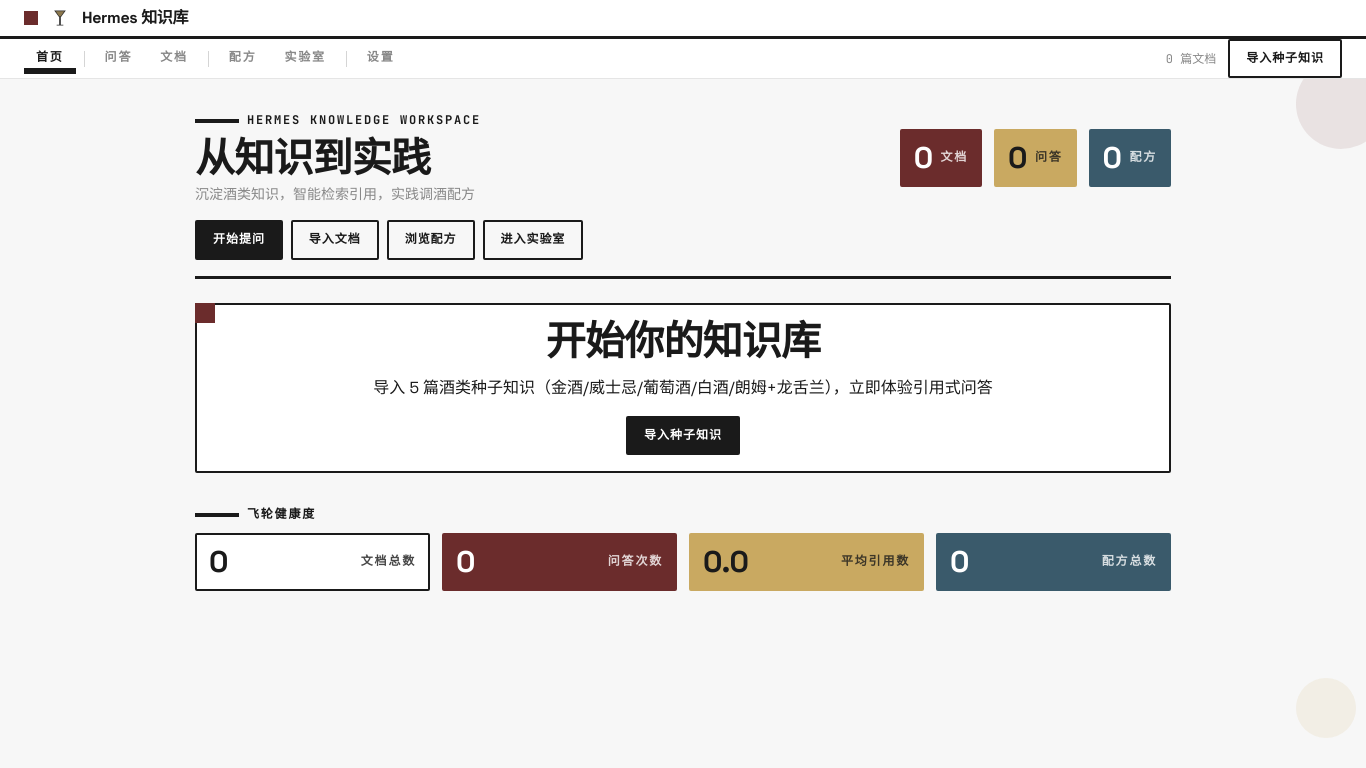
Scenario: App › 点击「实验室」切换到 LabPanel
Click the link "实验室".
click(305, 56)  # box [284,48,326,64]
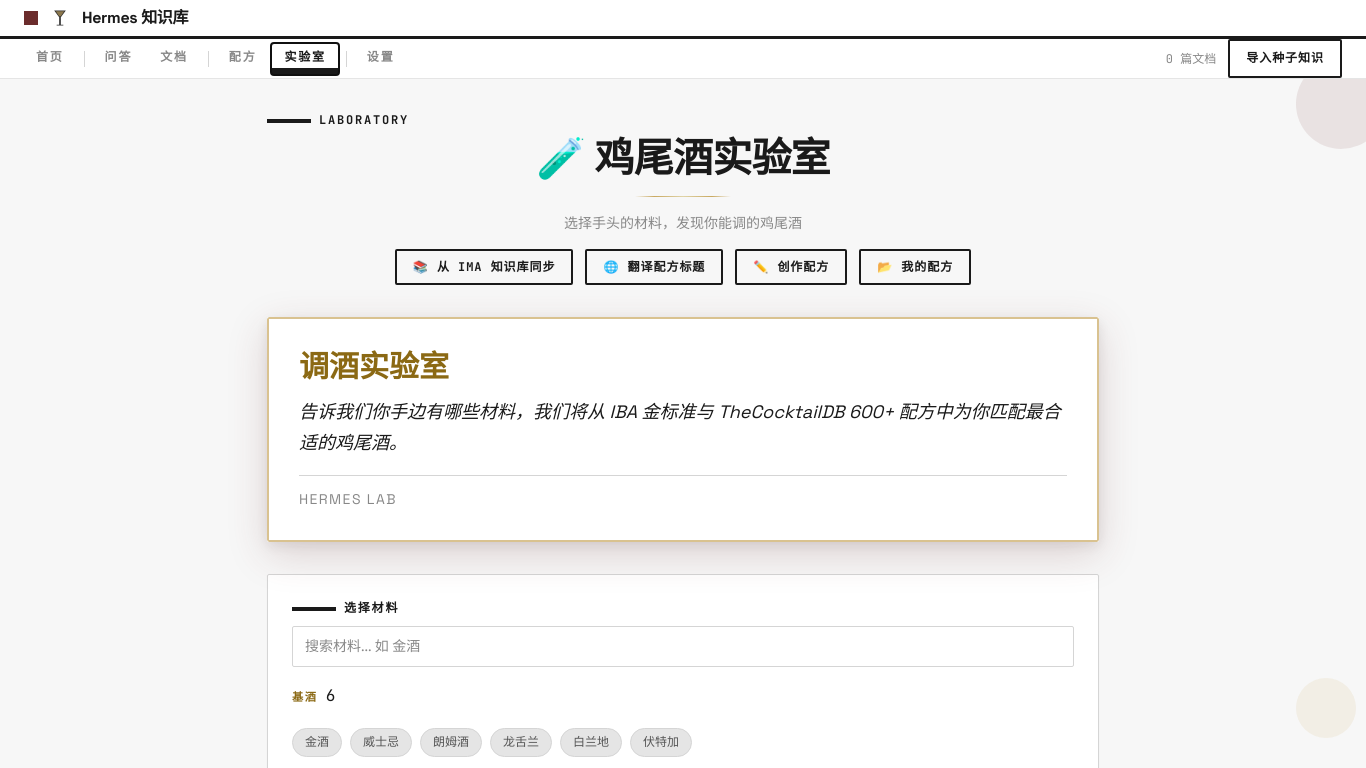
Check: the heading "🧪 鸡尾酒实验室" is shown, box [536,133,830,184]
